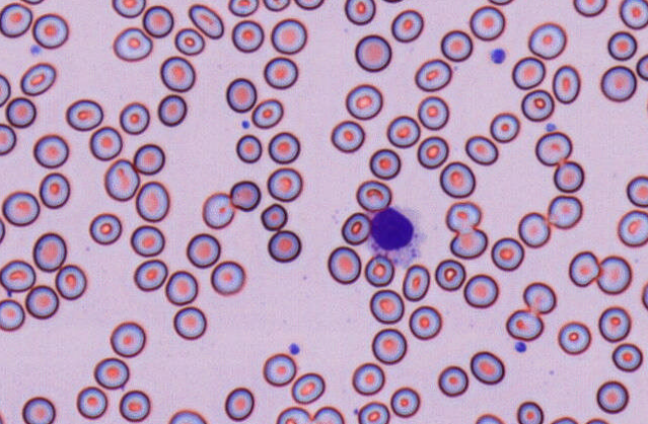MONO: (367, 203, 430, 269)
PLT: (490, 48, 507, 65), (288, 341, 302, 356), (514, 341, 529, 354), (545, 121, 559, 134), (241, 118, 251, 130)
RBC: (103, 158, 140, 201), (527, 21, 567, 59), (596, 255, 632, 295), (135, 180, 169, 222), (354, 34, 391, 72), (112, 26, 152, 61), (600, 65, 637, 102), (345, 83, 382, 120), (2, 190, 40, 226), (371, 327, 407, 364), (439, 161, 475, 198), (270, 18, 307, 54), (32, 12, 68, 49), (159, 55, 195, 92), (327, 245, 361, 284), (32, 232, 66, 271), (469, 5, 505, 41), (109, 321, 145, 357), (188, 3, 224, 39), (535, 131, 572, 166), (33, 133, 69, 168), (469, 350, 505, 385), (266, 167, 302, 202), (19, 62, 56, 96), (505, 308, 543, 341), (65, 98, 103, 131), (210, 260, 245, 295), (463, 273, 498, 308), (369, 289, 404, 324), (547, 194, 582, 229), (186, 232, 220, 268), (517, 211, 550, 248), (414, 58, 451, 91), (598, 305, 631, 342), (449, 227, 487, 259), (25, 284, 59, 319), (490, 236, 524, 271), (172, 305, 206, 340), (408, 305, 442, 340), (557, 320, 591, 355), (165, 269, 198, 305), (54, 263, 86, 300), (202, 192, 234, 229), (262, 352, 296, 386), (330, 119, 364, 153), (0, 259, 35, 292), (89, 125, 122, 160), (263, 56, 298, 89), (445, 201, 481, 233), (0, 2, 32, 38), (93, 357, 129, 389), (38, 172, 70, 208), (568, 250, 599, 287), (617, 209, 647, 247), (522, 281, 556, 314), (267, 229, 301, 262), (133, 258, 167, 291), (596, 380, 629, 414), (130, 224, 164, 257), (511, 56, 545, 89), (386, 115, 420, 148), (356, 179, 391, 211), (417, 95, 449, 130), (401, 263, 430, 301), (552, 64, 580, 103), (231, 19, 264, 52), (351, 362, 384, 395), (89, 212, 122, 245), (267, 131, 300, 164), (390, 9, 423, 42), (291, 372, 325, 404), (416, 135, 448, 169), (520, 89, 554, 121), (225, 77, 256, 112), (118, 389, 150, 422), (440, 29, 472, 62), (464, 134, 498, 165), (76, 385, 107, 419), (224, 386, 254, 421), (133, 143, 165, 175), (553, 160, 584, 193), (434, 258, 465, 291), (142, 4, 173, 37), (119, 101, 150, 134), (341, 211, 371, 245), (437, 365, 468, 397), (369, 148, 401, 179), (5, 96, 36, 128), (489, 111, 520, 143), (364, 253, 394, 286), (157, 93, 187, 126), (229, 180, 260, 211), (611, 342, 643, 372), (251, 98, 283, 128), (390, 386, 420, 417), (21, 396, 55, 423), (607, 30, 637, 60), (174, 27, 205, 55), (0, 298, 25, 331), (619, 0, 647, 29), (235, 133, 262, 163), (260, 202, 287, 231), (344, 0, 375, 25), (357, 401, 389, 423), (626, 174, 647, 207), (516, 400, 543, 423), (111, 0, 145, 18), (275, 406, 311, 423), (311, 405, 344, 423), (573, 0, 607, 17), (168, 409, 207, 423), (0, 122, 16, 155), (227, 0, 258, 16), (0, 73, 11, 107), (474, 412, 505, 423), (262, 0, 290, 11), (294, 0, 324, 10), (636, 53, 647, 80), (549, 415, 578, 423), (641, 280, 647, 310), (584, 417, 609, 423), (487, 0, 513, 5), (0, 217, 5, 243), (20, 0, 45, 5), (0, 409, 6, 423), (381, 0, 404, 3)
